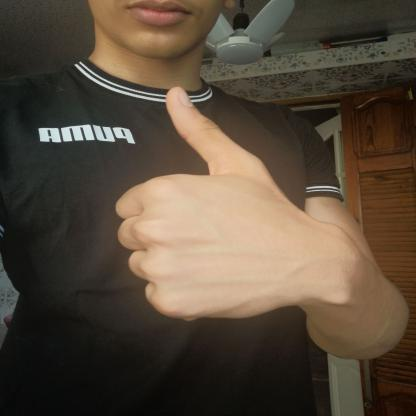ALIF: (84, 70, 354, 339)
